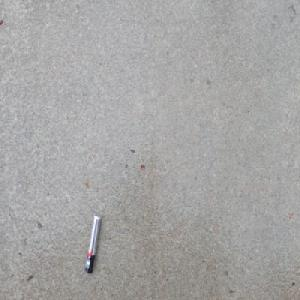Battery: (84, 212, 102, 276)
